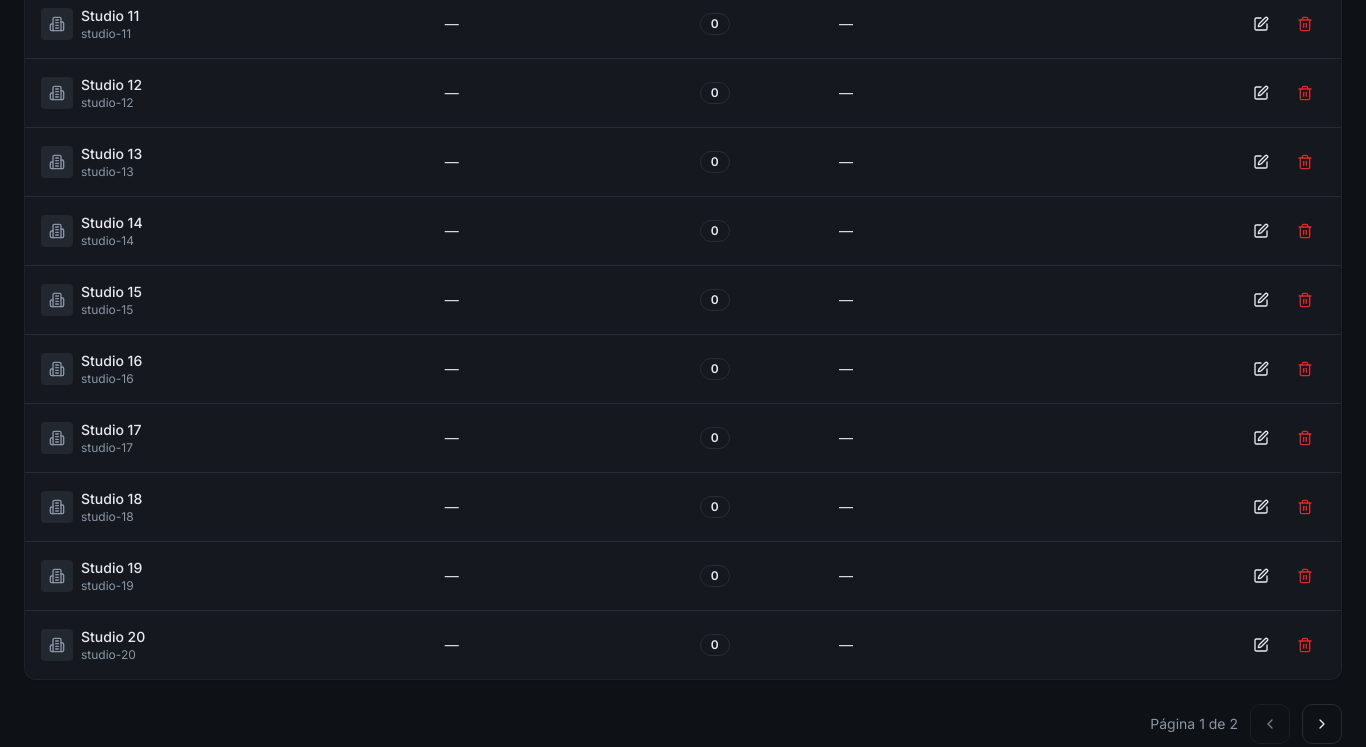
Scenario: Publisher pagination regressions › allows reaching records after the first page and resets the page on search
(page scrolled)
Check: the text "Studio 21" is not shown
Step 1. Click the button named "Próxima página" → (1322, 724), box [1302,704,1342,744]
(page scrolled)
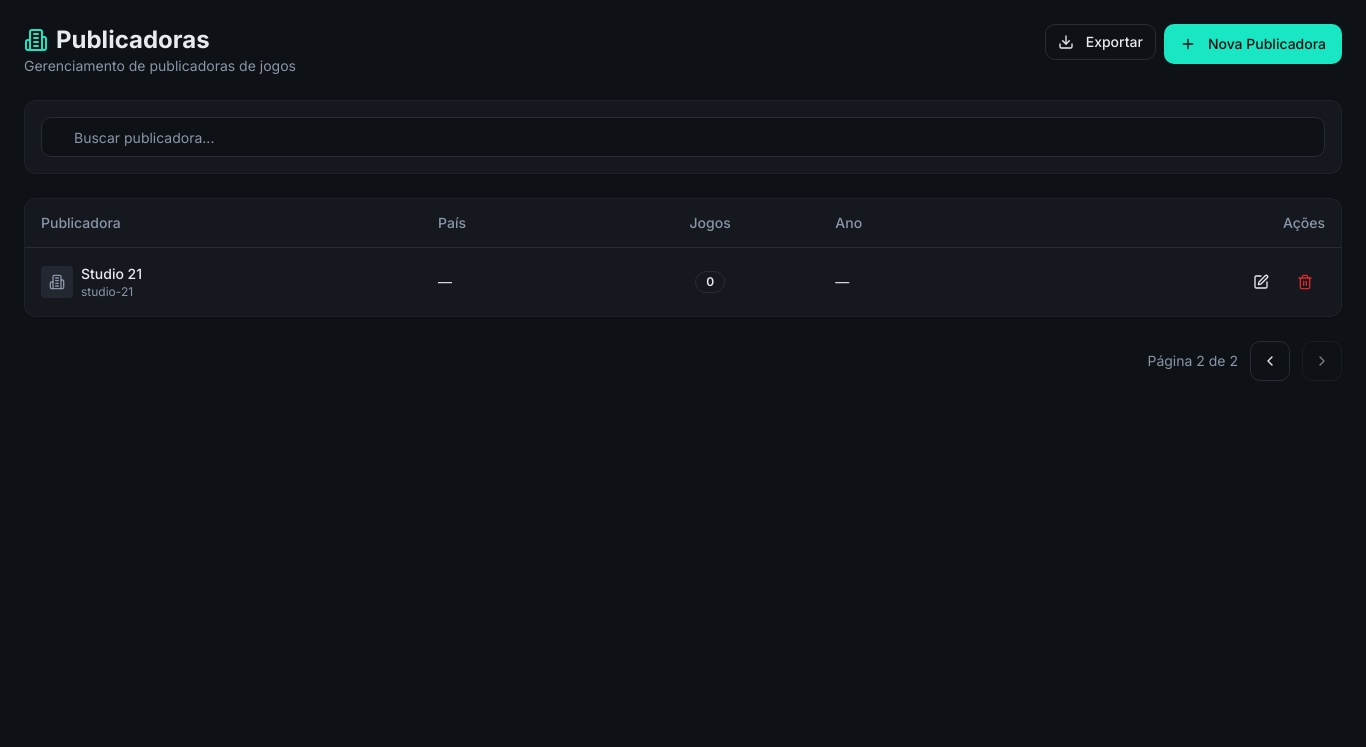
Check: the text "Studio 21" is shown, box [81,264,142,284]
Check: the text "Studio 1" is gone
Step 2. Type "Studio 1" into the field with placeholder "Buscar publicadora..." → (683, 137), box [41,117,1325,157]
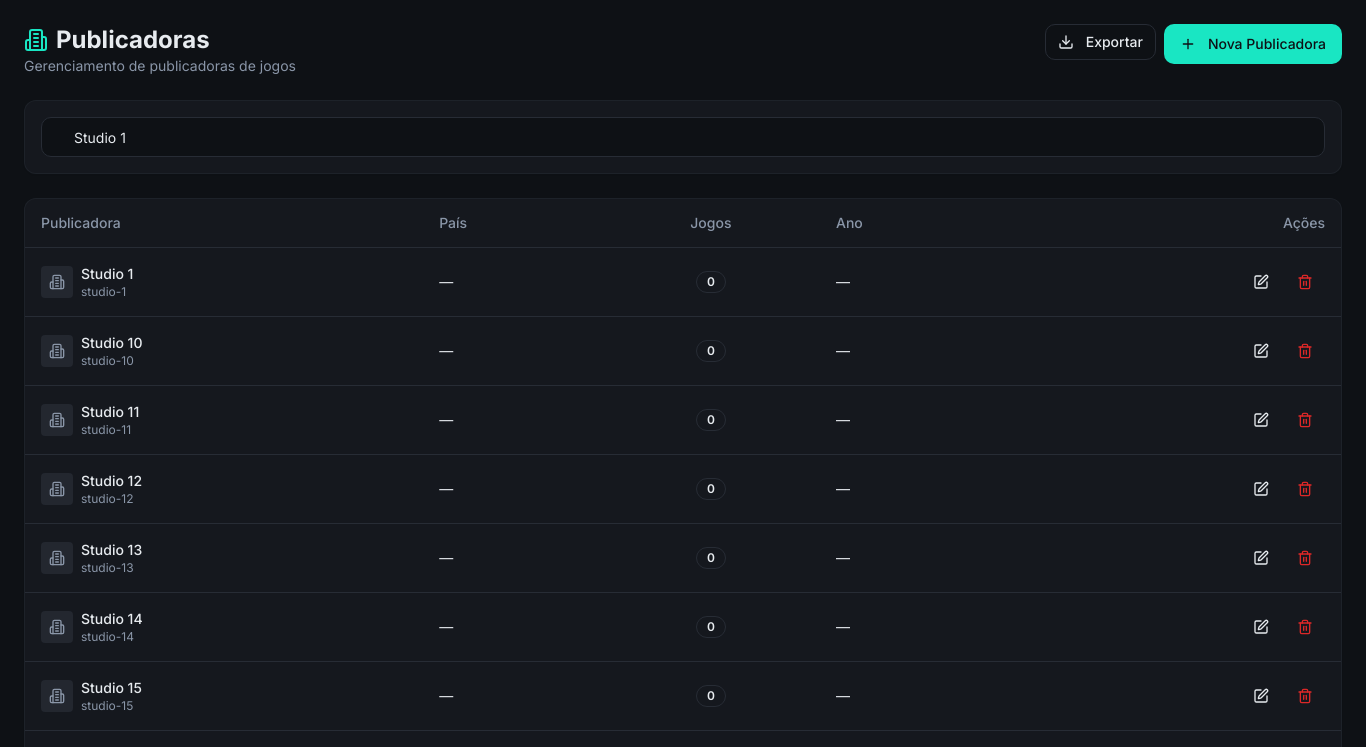
Check: the text "Studio 1" is shown, box [81,264,133,284]
Check: the text "Studio 21" is gone
